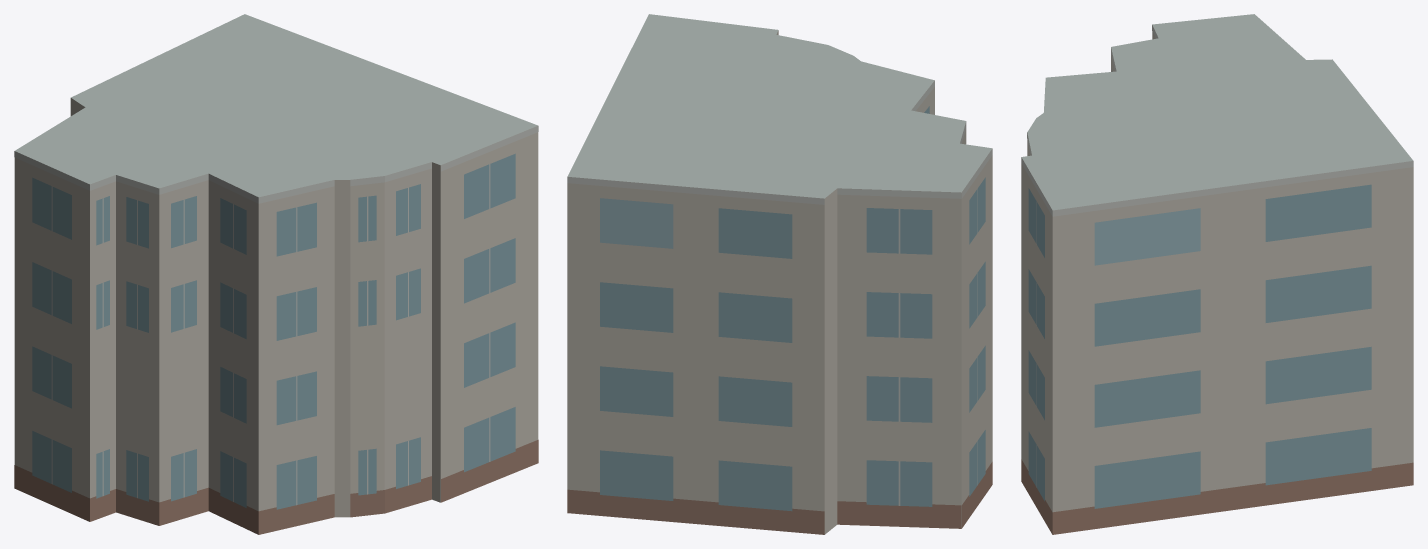
Rendered from survey-upis-32656330.glb.
3 renders of one model, left to right at view 1: azimuth 30°, elevation 25°; view 2: azimuth 150°, elevation 25°; view 3: azimuth 270°, elevation 25°, orthographic. The views are drawn at different scales.
Parts seen in each view (by area): view 1: survey-upis-32656330.tmp; view 2: survey-upis-32656330.tmp; view 3: survey-upis-32656330.tmp.
Part boxes in pixels (x1,y1,x2,y2): survey-upis-32656330.tmp: (14, 14, 538, 534); survey-upis-32656330.tmp: (567, 14, 992, 534); survey-upis-32656330.tmp: (1021, 14, 1413, 534).
Size of the model in its own units: 16.64 by 12.8 by 14.03.
